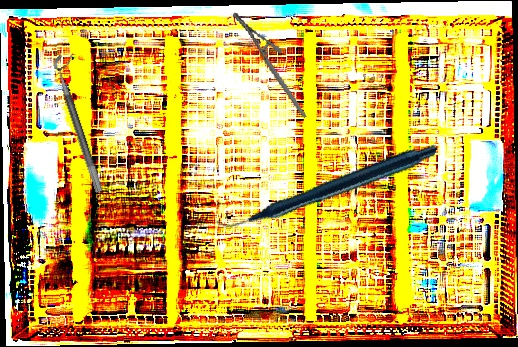Fixation Ring: (51, 51, 115, 194)
Handpiece: (215, 91, 438, 279)
Needle Holder: (231, 1, 307, 129)
